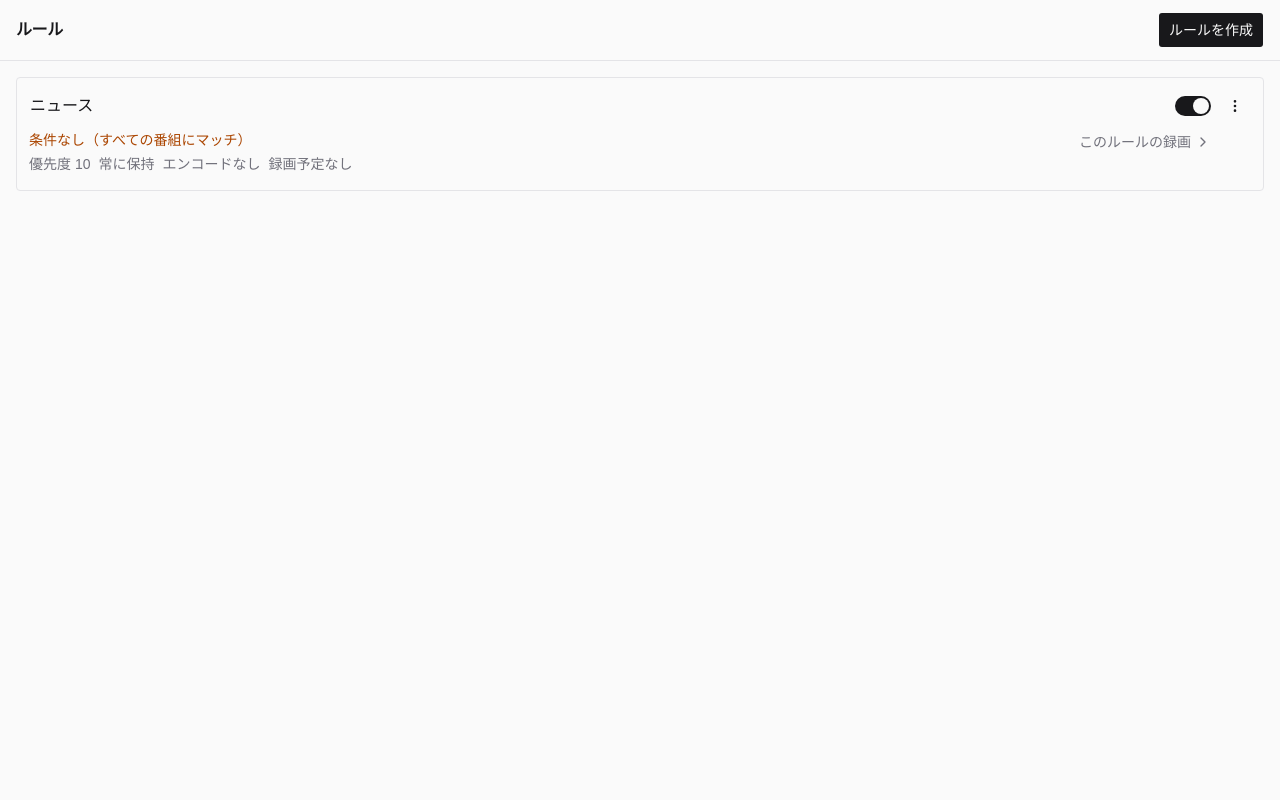
Test: RulesPage ルールの有効スイッチ › Undo の更新が失敗したら無効状態へ戻す
Click the switch named "ルール「ニュース」を有効にする". click: (1193, 106)
box: [1171,90,1215,122]
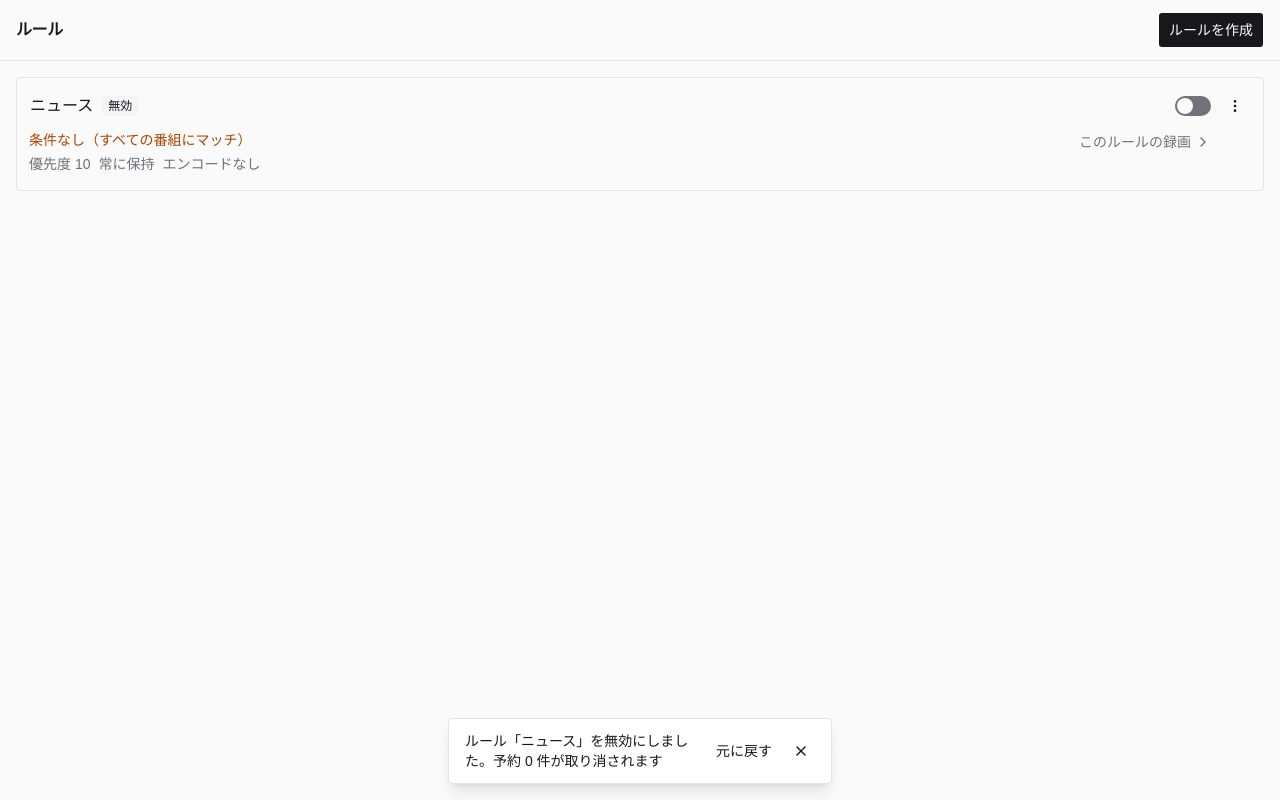
Now the button "元に戻す" is shown
Click the button "元に戻す". click: (744, 751)
box: [705,735,783,767]
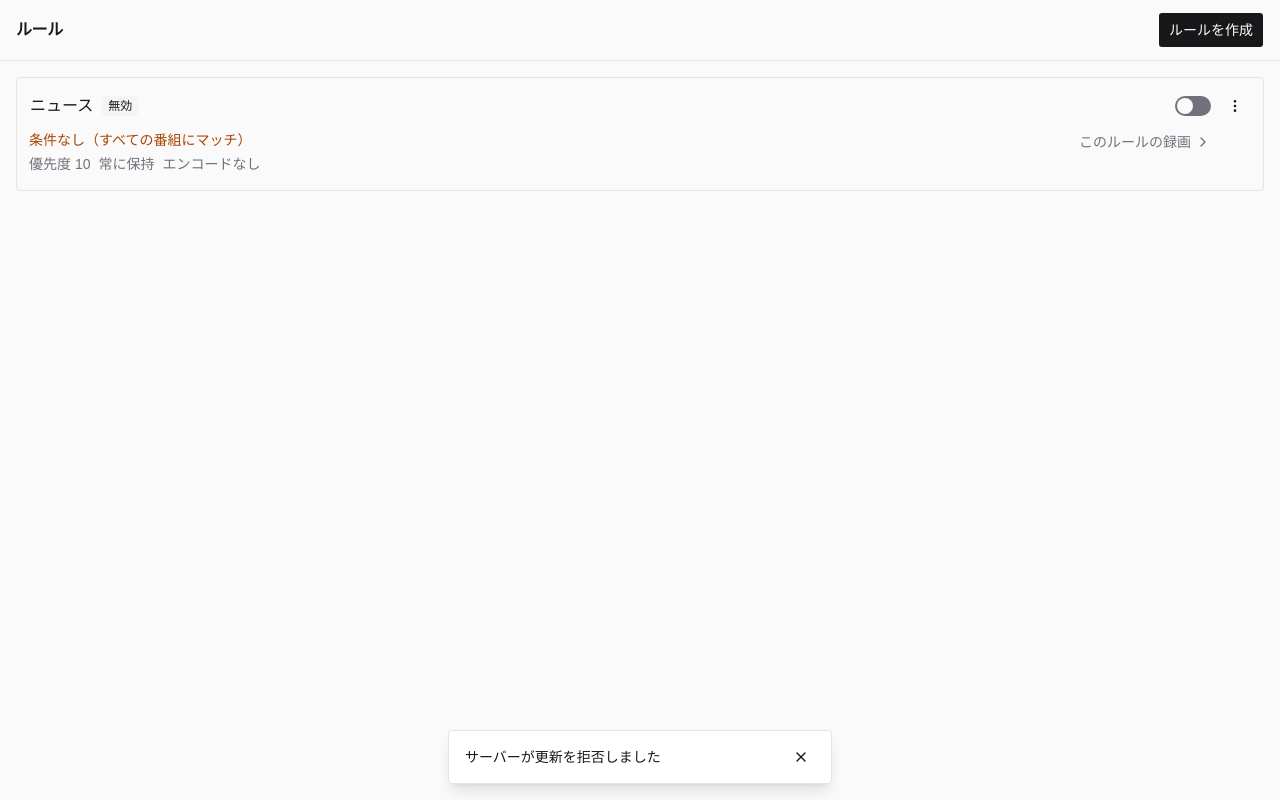
Now the text "サーバーが更新を拒否しました" is shown, box [465,747,661,767]
